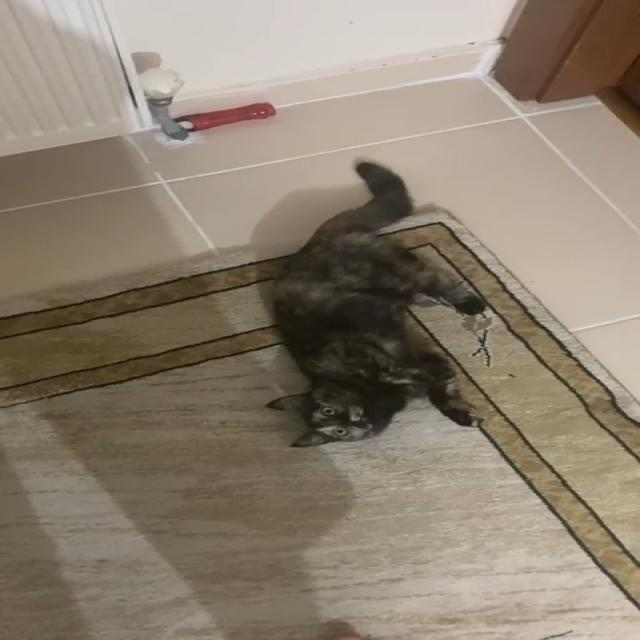authorized: (259, 157, 488, 448)
